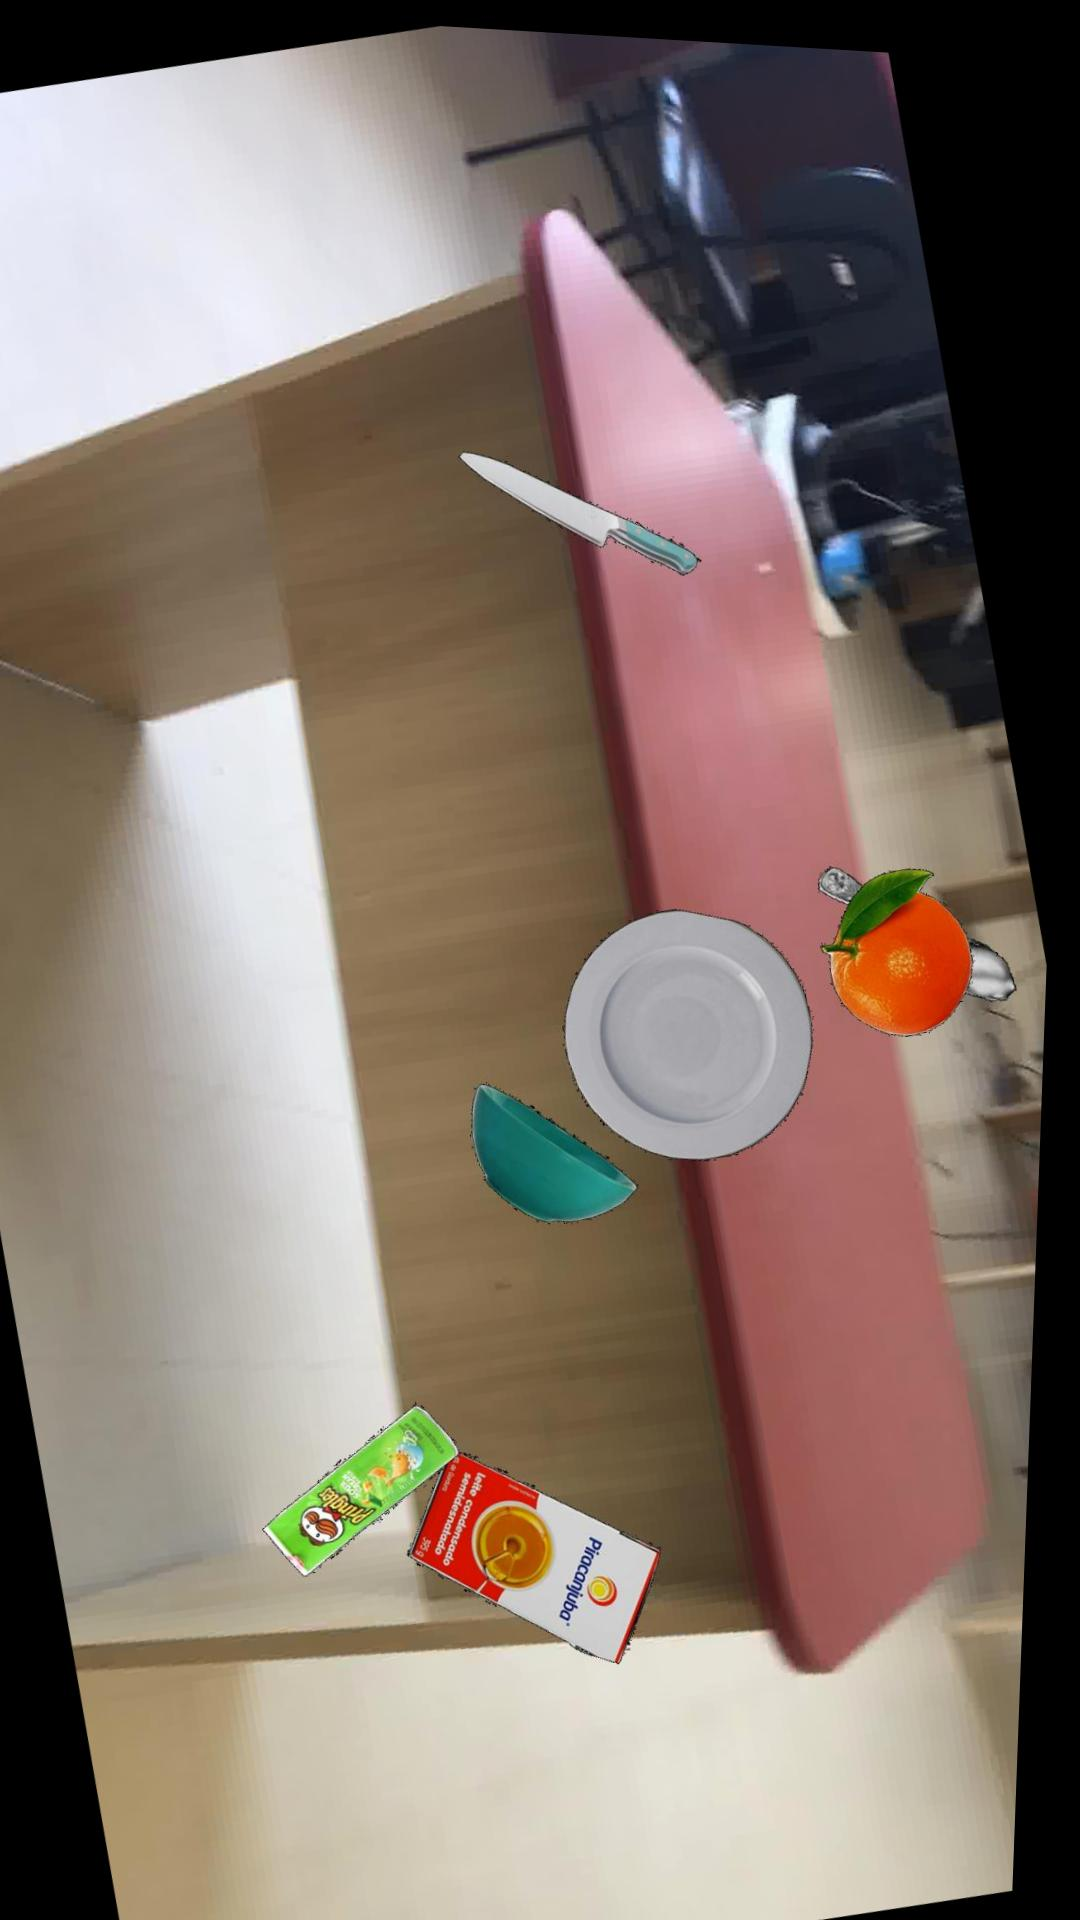bowl: (477, 1076, 645, 1213)
knife: (460, 444, 703, 566)
orange: (825, 856, 978, 1023)
plate: (570, 899, 819, 1151)
pringles: (272, 1398, 468, 1571)
